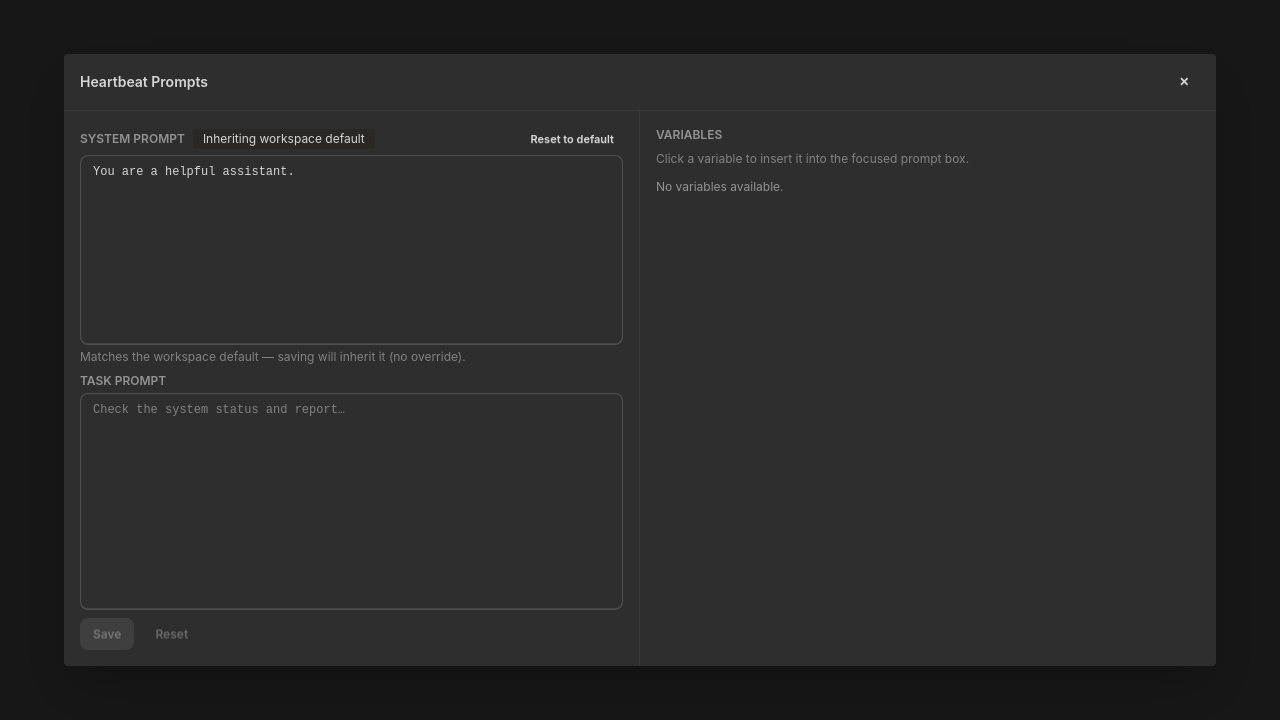
Test: PromptEditor save flow › persists an edited system prompt and clears the unsaved state (regression: save flickered + reverted)
Expected: the button "Save" is disabled, [80,618,134,650]
Note: Edit the system prompt → an override.
Type "custom override" into the text box named "Heartbeat system prompt".
click(352, 250); type("custom override")  # box [80,155,623,344]
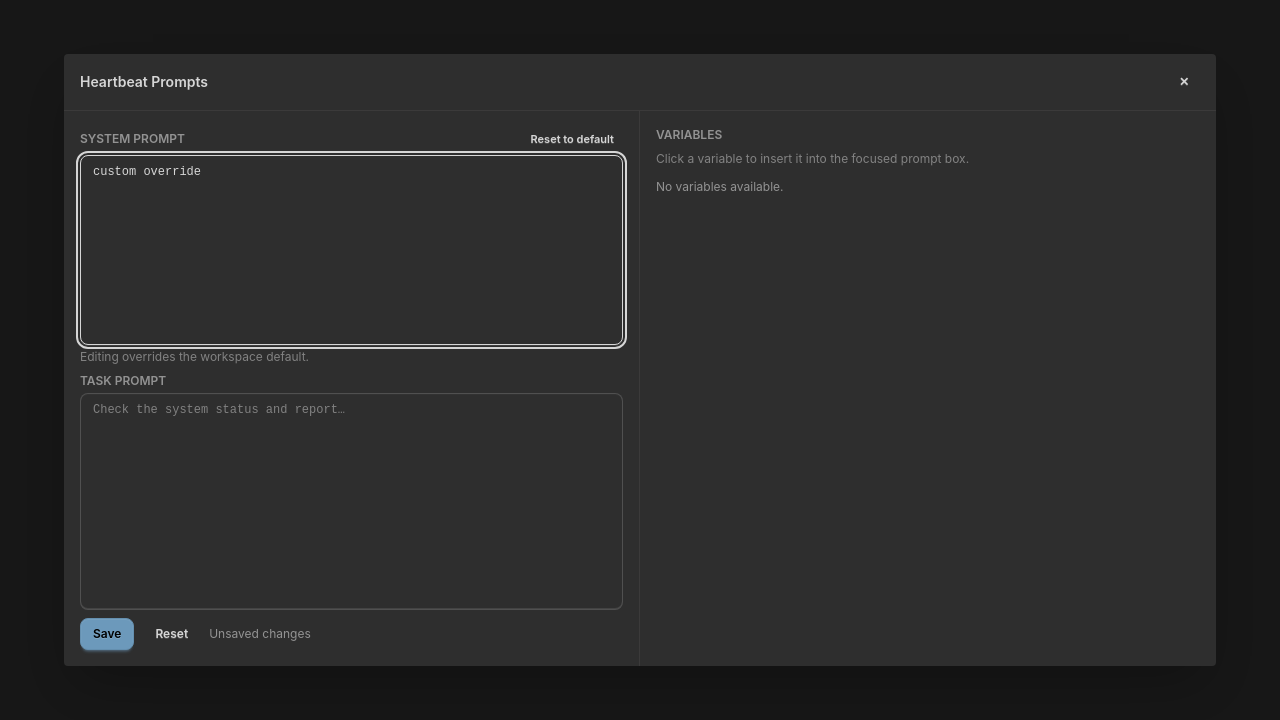
Now the button "Save" is enabled
Click the button "Save".
click(107, 634)  # box [80,618,134,650]
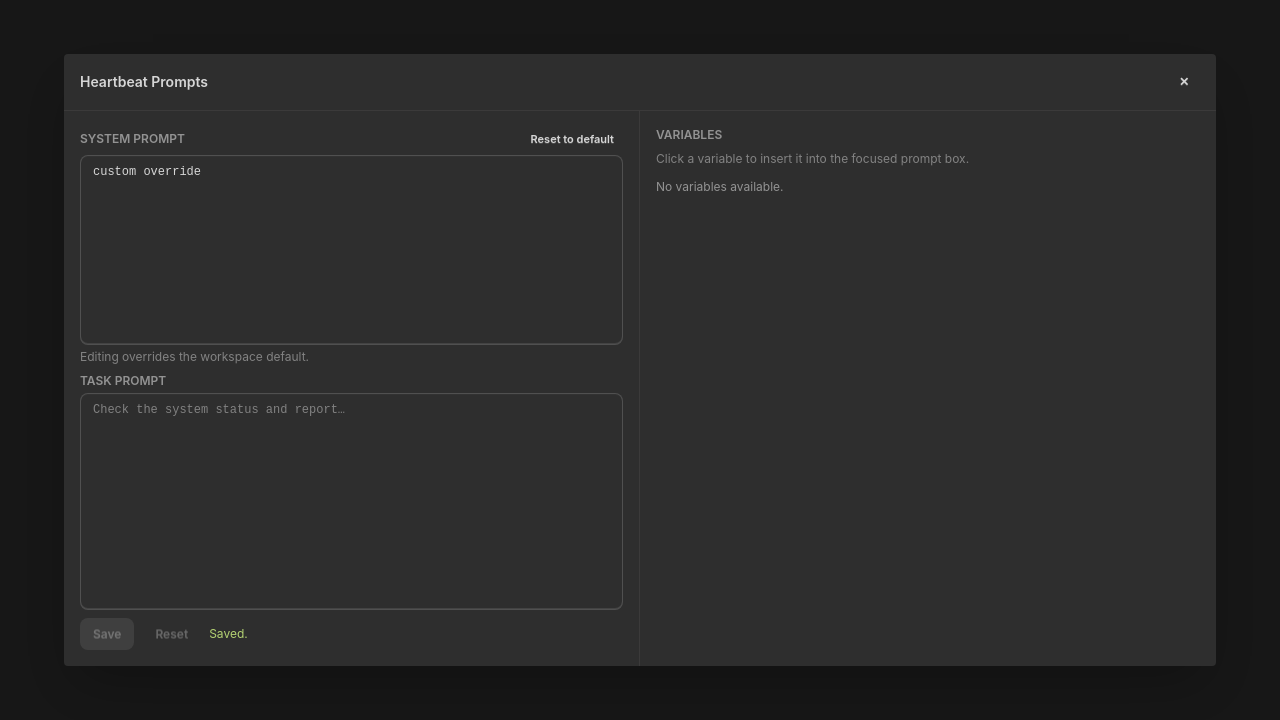
Now the text "Saved." is shown, box [209,626,248,642]
Now the button "Save" is disabled, box [80,618,134,650]
Now the text "Unsaved changes" is gone
